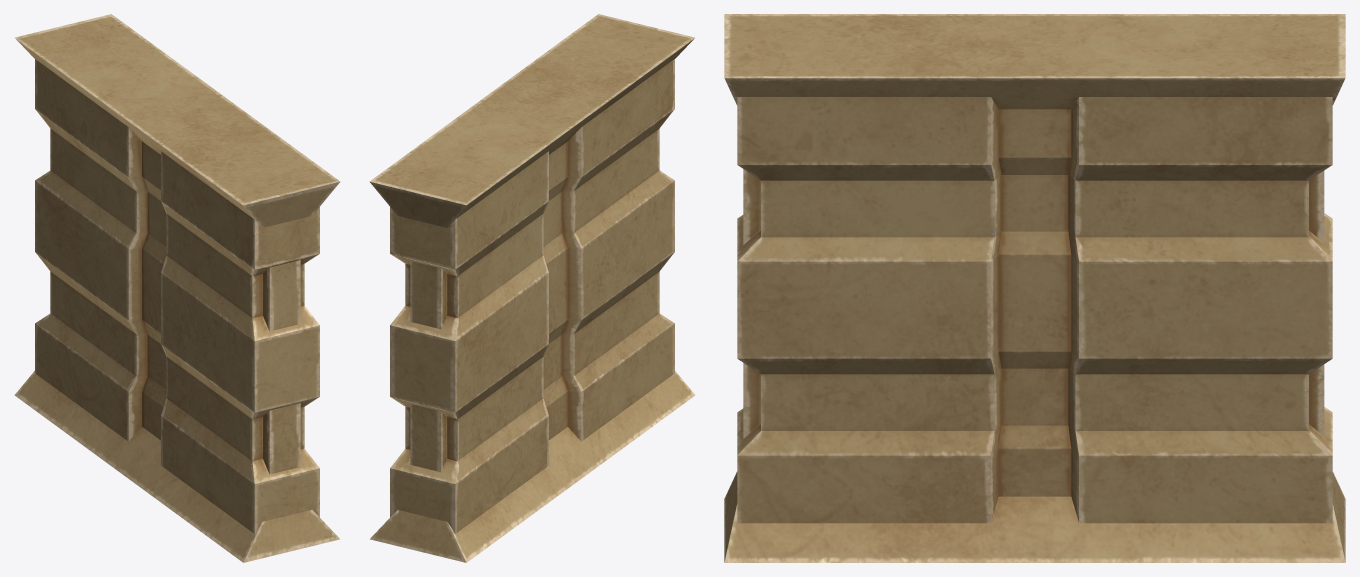
Rendered from Ruin wall.FBX.
The picture shows the model from 3 angles, left to right: view 1: azimuth 30°, elevation 25°; view 2: azimuth 150°, elevation 25°; view 3: azimuth 270°, elevation 25°; orthographic projection. The views are drawn at different scales.
Parts seen in each view (by area): view 1: Box003; view 2: Box003; view 3: Box003.
Boxes of the visible parts, x1,y1,x2,y2 form: Box003: (14,14,340,562); Box003: (369,14,695,562); Box003: (724,14,1345,562).
Bounding box in the file's own units: 714 × 2513 × 2918.
Materials: 1 (1 with a texture image).
